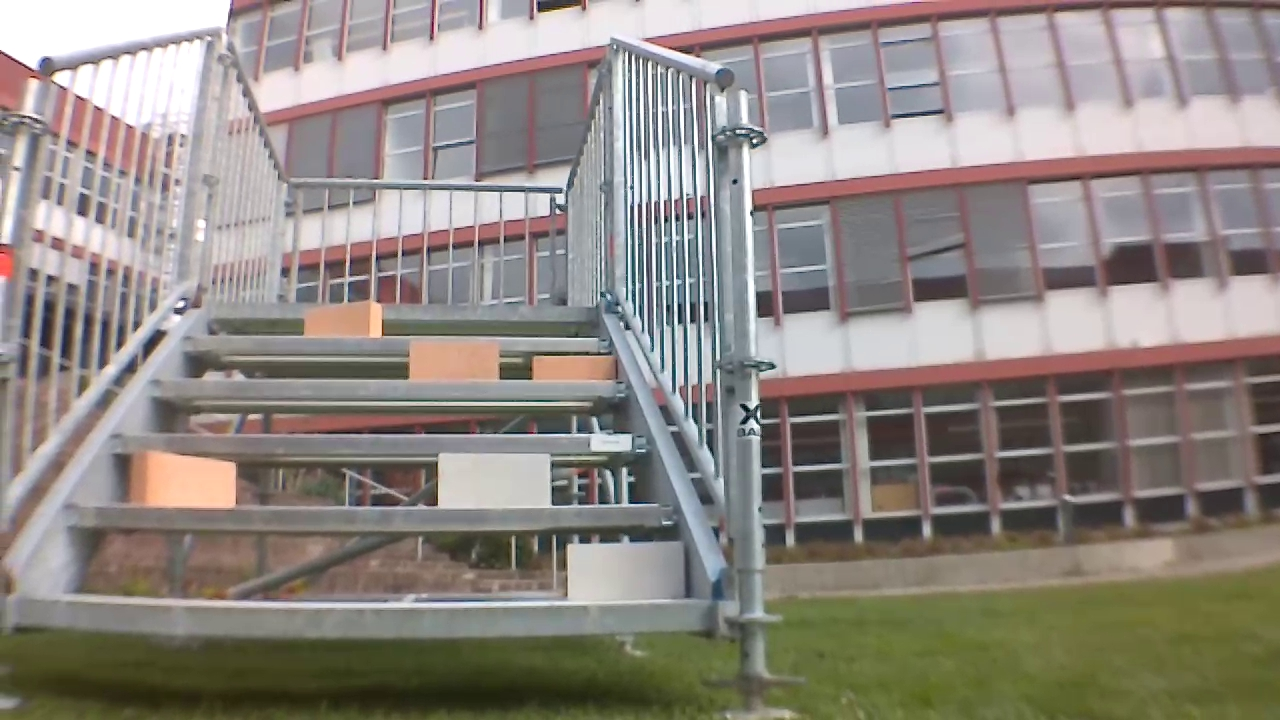brick: (568, 542, 684, 599), (130, 452, 236, 508), (438, 453, 549, 505), (410, 341, 498, 378), (305, 302, 380, 337), (534, 356, 614, 378)
edge: (20, 595, 714, 637), (64, 504, 678, 530), (113, 434, 649, 453), (153, 378, 634, 399), (210, 300, 599, 323), (185, 336, 612, 353)
stairs: (10, 28, 795, 716)
steps: (11, 293, 730, 644)
